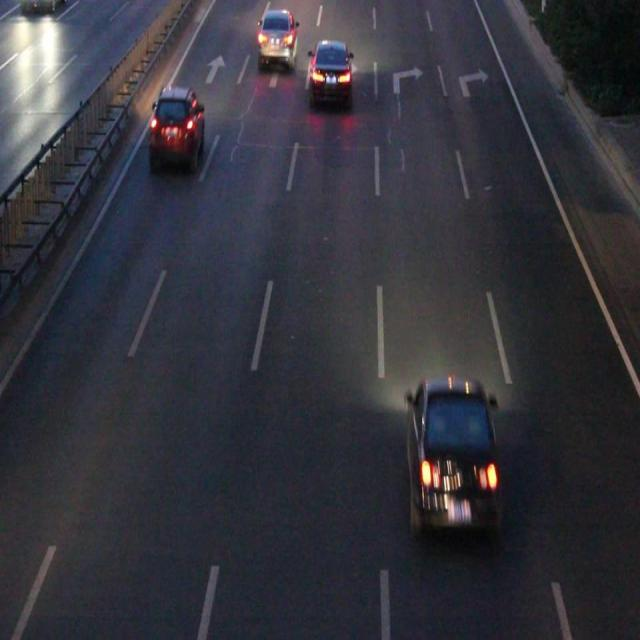car: (407, 379, 498, 532), (151, 90, 203, 164), (310, 40, 351, 102), (258, 12, 296, 66)
